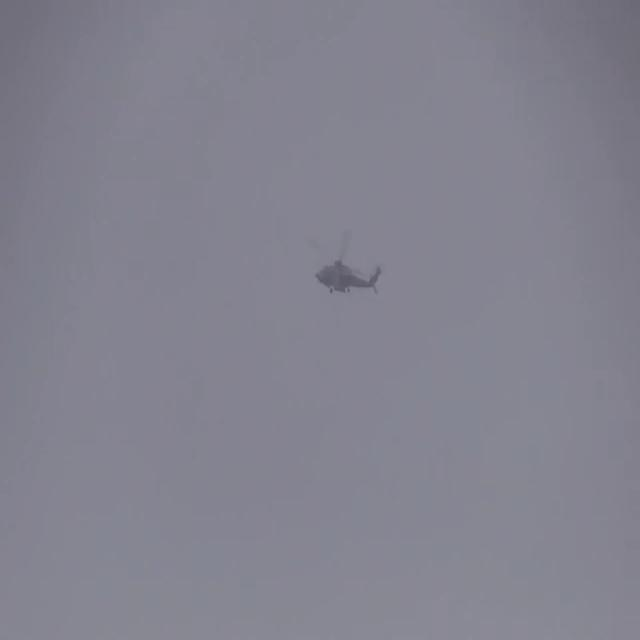Helicopter: (313, 231, 384, 315)
